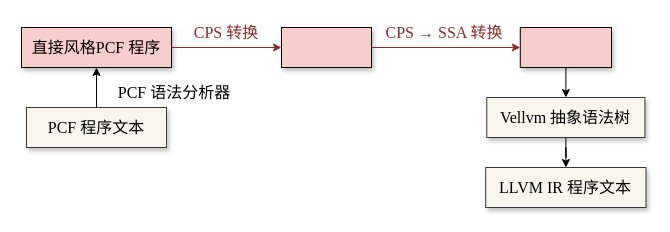
Image size: 670x232. Some labels were removed from this diagram. The centre of each missing label's shape, as x and y in pixels:
"CPS 程序" goes at (x=327, y=48).
"SSA 程序" goes at (x=566, y=48).
